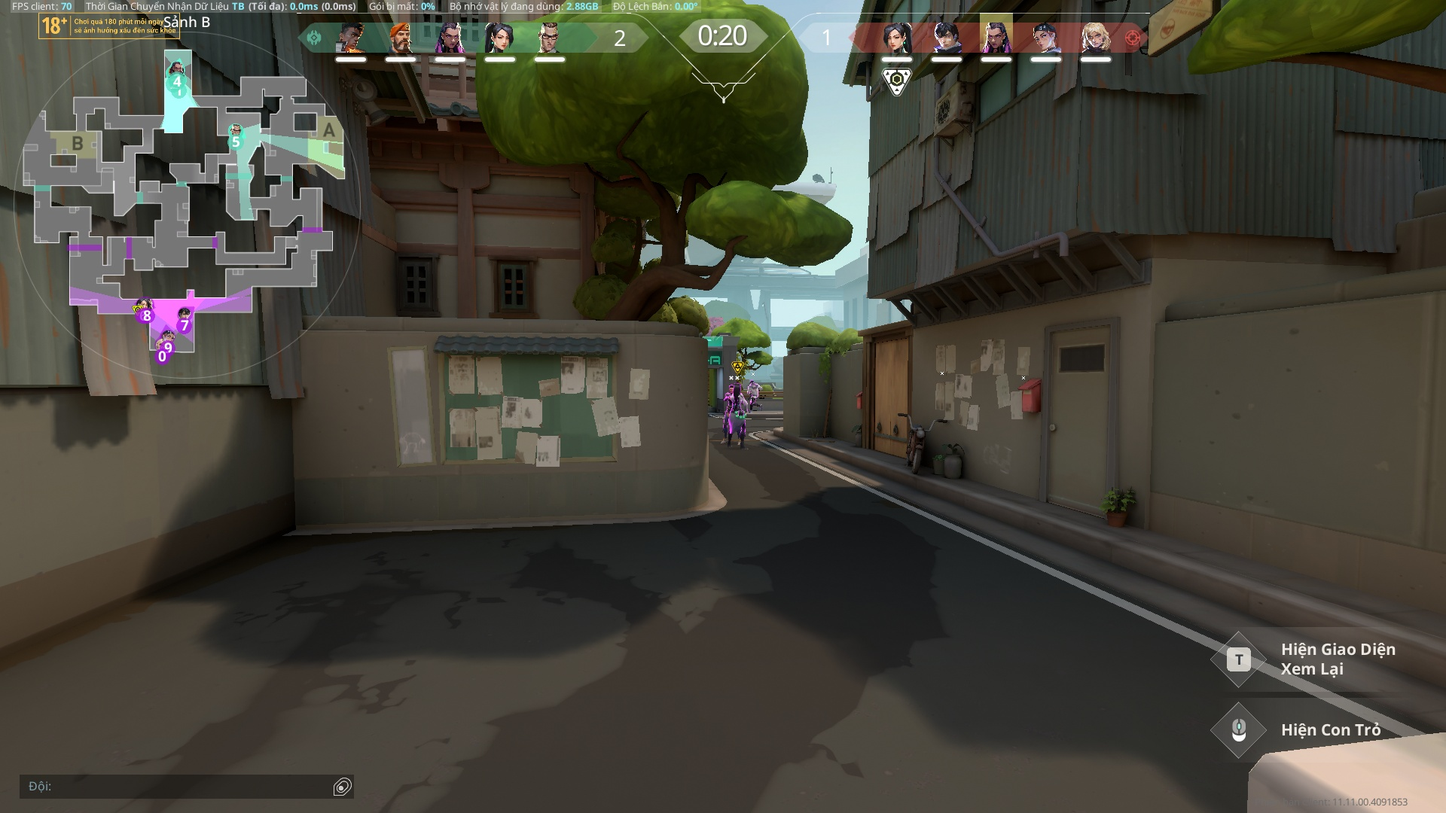body: (732, 391, 744, 411), (749, 385, 760, 397), (725, 391, 731, 410)
head: (734, 382, 742, 392), (728, 384, 734, 392), (749, 379, 754, 384)
